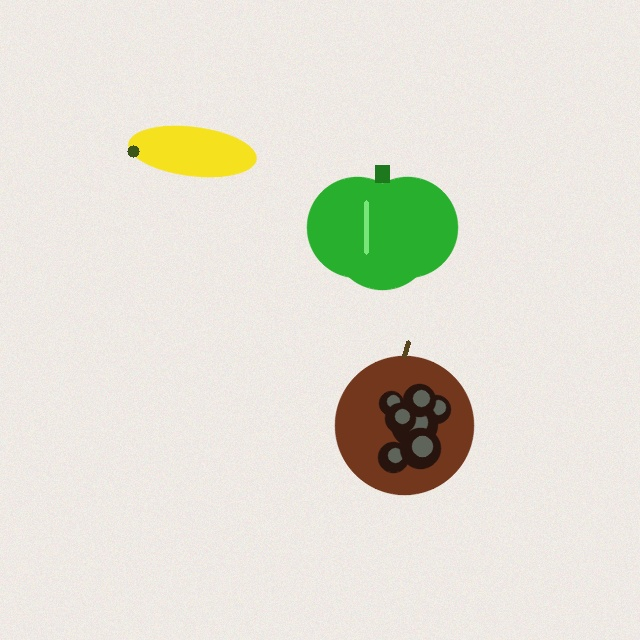Fresh banana: (125, 121, 259, 181)
Fresh bell pepper: (307, 165, 457, 289)
Rotten apple: (335, 342, 473, 494)
